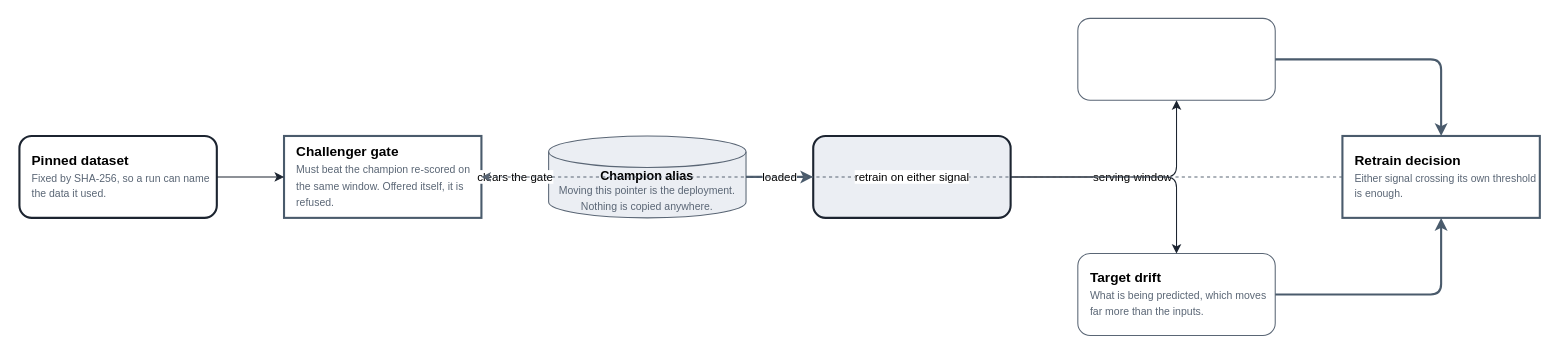
Some shapes in this 1558 by 354 pixel diagram are drawn without their labels. Each missing label, with the centre of its shape:
"Feature drift Serving window against the same seasons a year earlier." goes at [1176,58].
"Prediction service Loads whatever the alias currently names." goes at [911,176].
